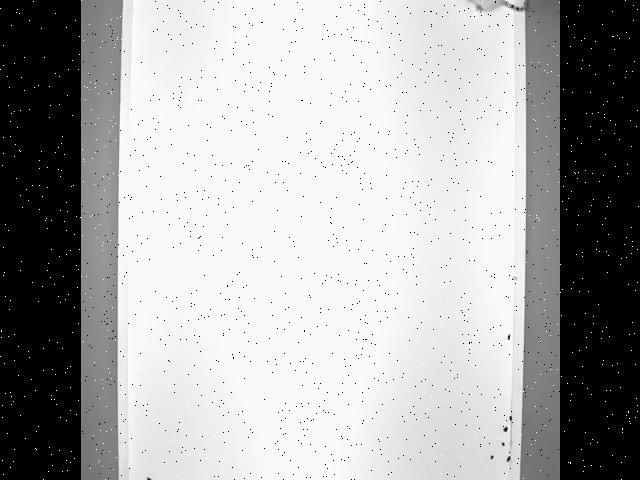Tikus: (452, 0, 532, 15)
